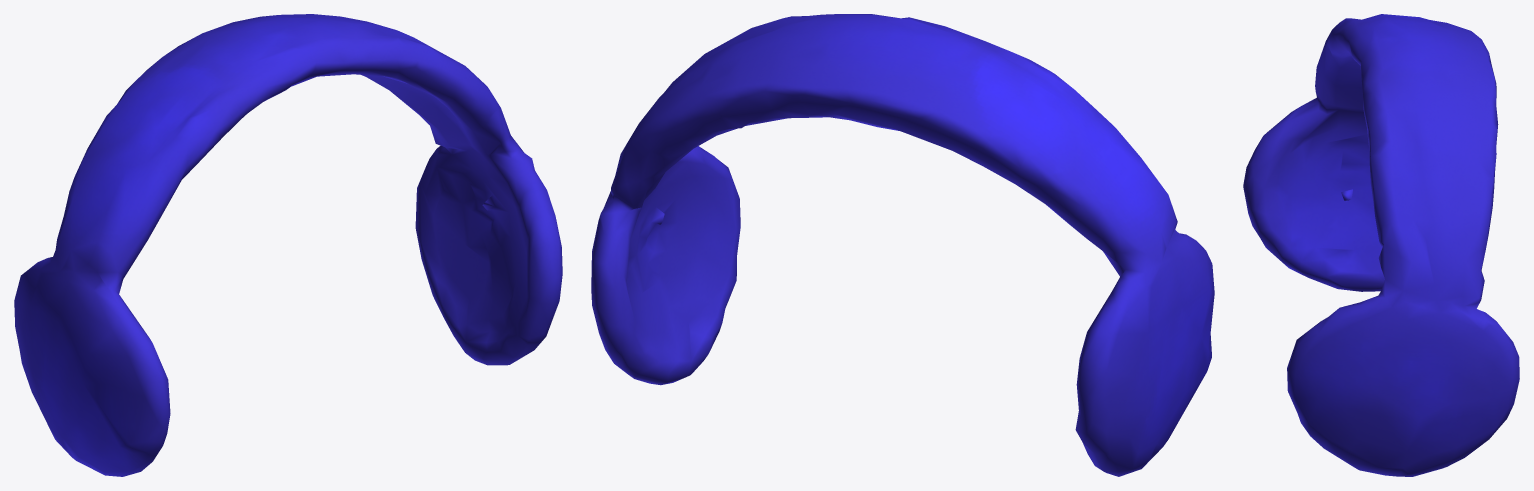
File: blue headphones.glb
3 renders of one model, left to right at view 1: azimuth 30°, elevation 25°; view 2: azimuth 150°, elevation 25°; view 3: azimuth 270°, elevation 25°, orthographic. The views are drawn at different scales.
Parts seen in each view (by area): view 1: headphones_blue.001; view 2: headphones_blue.001; view 3: headphones_blue.001.
Part boxes in pixels (left/top/right/bottom): headphones_blue.001: left=14, top=14, right=562, bottom=476; headphones_blue.001: left=591, top=14, right=1214, bottom=476; headphones_blue.001: left=1243, top=14, right=1519, bottom=476.
Size of the model in its own units: 0.3819 by 0.2789 by 0.2019.
1 material, 1 textured.
